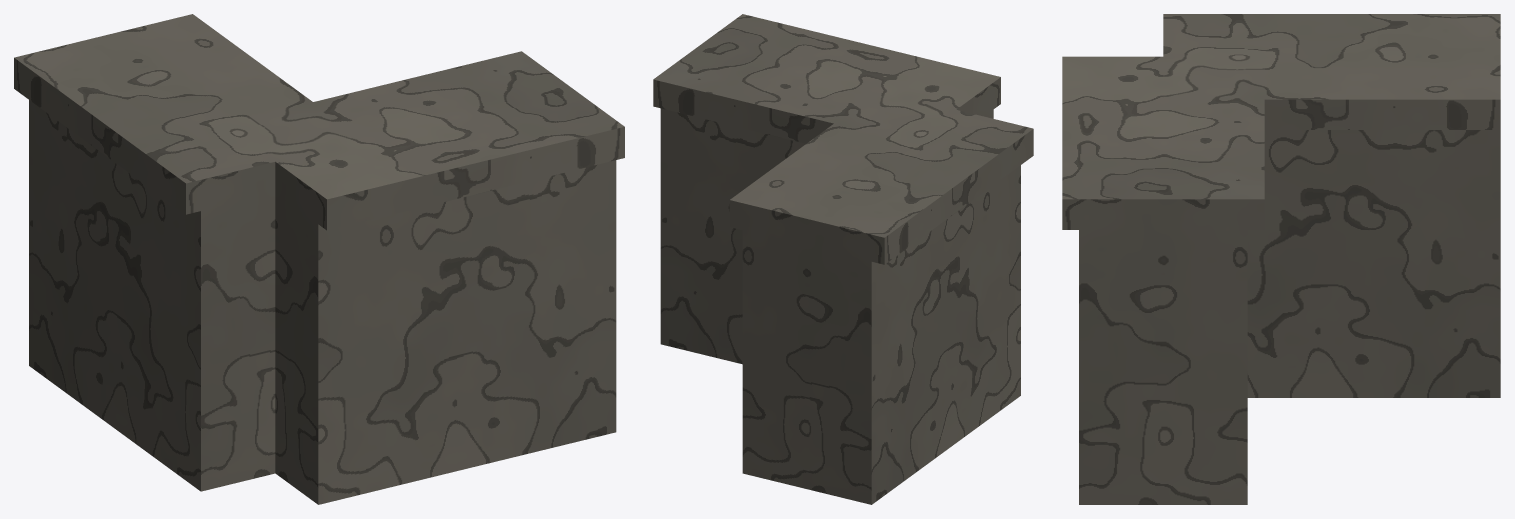
The model's file is foundation_plinth_inner_corner.glb.
3 views of the same model, side by side, from view 1: azimuth 30°, elevation 25°; view 2: azimuth 150°, elevation 25°; view 3: azimuth 270°, elevation 25° (orthographic). The views are drawn at different scales.
Visible parts, largest first — view 1: foundation_plinth_inner_corner; view 2: foundation_plinth_inner_corner; view 3: foundation_plinth_inner_corner.
Part boxes in pixels (x1,y1,x2,y2): foundation_plinth_inner_corner: (14, 14, 624, 504); foundation_plinth_inner_corner: (653, 14, 1033, 504); foundation_plinth_inner_corner: (1062, 14, 1500, 504).
Size of the model in its own units: 0.65 by 0.5 by 0.65.
Materials: 1 (1 with a texture image).
